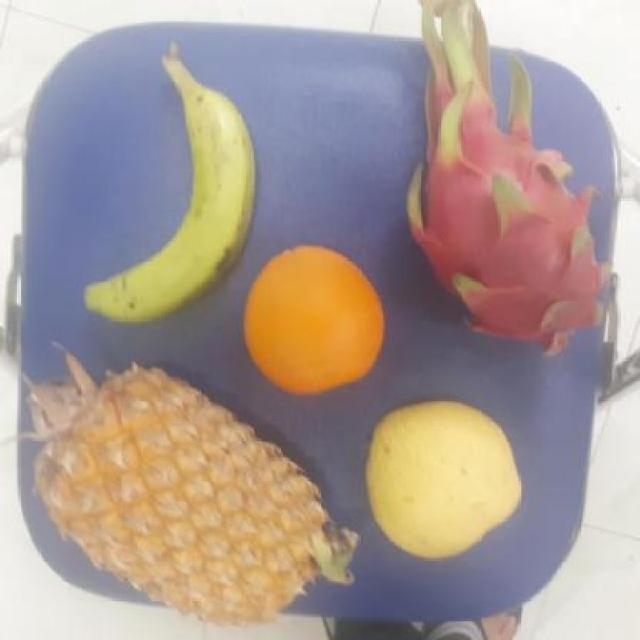banana: (100, 64, 252, 316)
dragon fruit: (400, 72, 611, 360)
oren: (238, 238, 392, 398)
pear: (358, 402, 522, 560)
pineapple: (22, 365, 326, 626)
